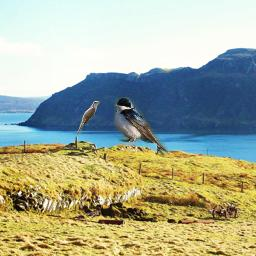Cuckoo: (76, 101, 101, 136)
Swallow: (114, 97, 168, 158)
